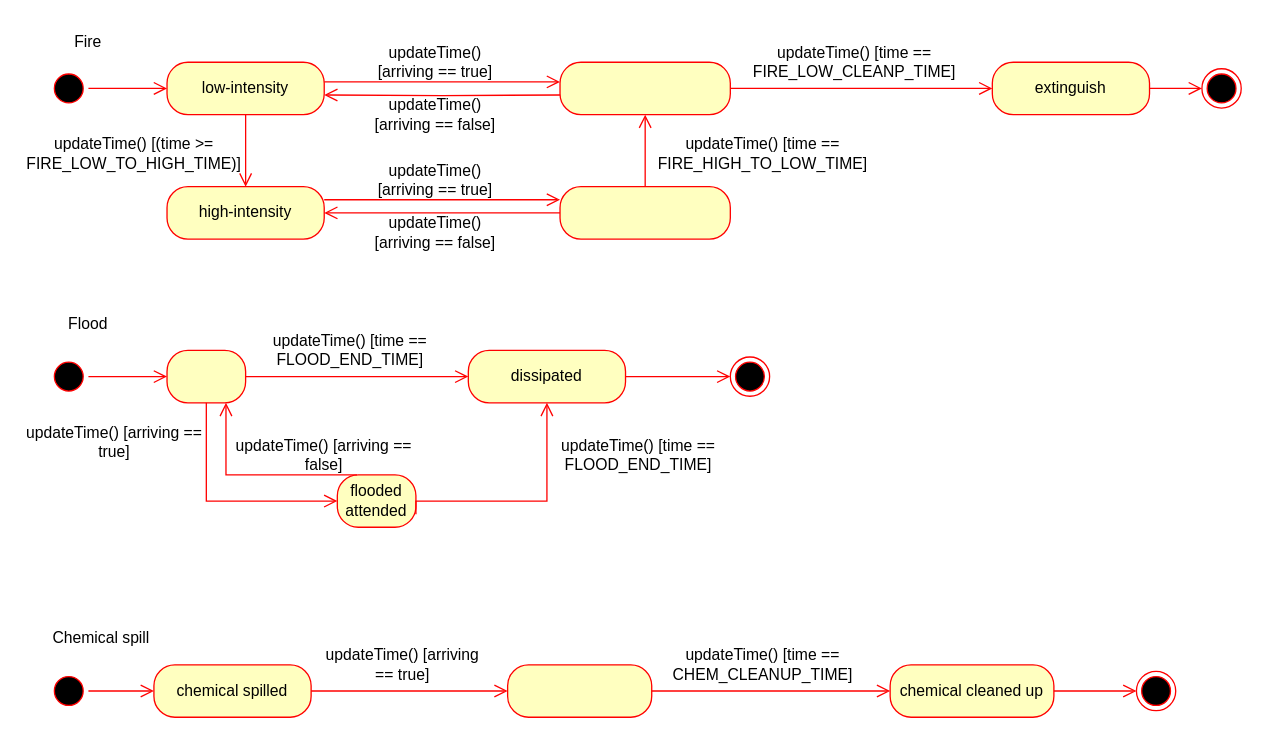
This 1264x740 diagram has some shape labels left out. The shapes that lost their labels are listed below. From the top down, each one's box as (x1, y1, x2, y2) in pixels, then its label:
(559, 61, 730, 115): low-intensity attended
(559, 185, 730, 239): high-intensity attended
(166, 349, 246, 403): flooded
(506, 664, 652, 717): chemical spilled attended
